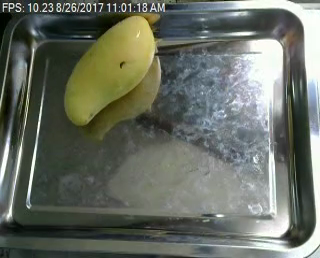Mango: (62, 11, 164, 127)
